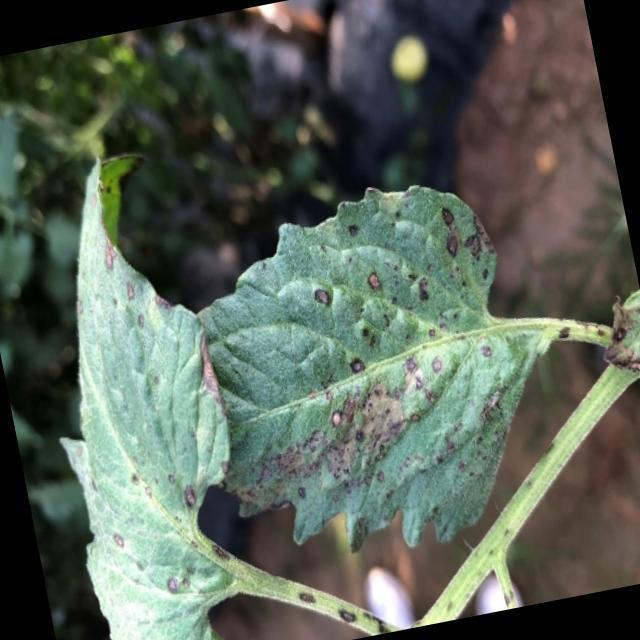Septoria: (241, 202, 533, 524), (47, 243, 250, 640)
